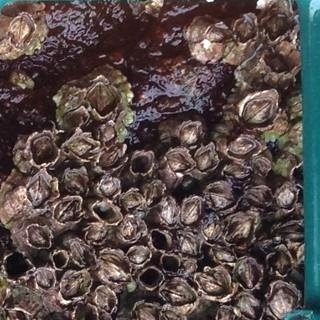Barnacle: (240, 94, 278, 128), (85, 77, 117, 117), (190, 16, 226, 47), (196, 271, 233, 301), (100, 249, 132, 283), (261, 9, 295, 39), (269, 285, 298, 318), (27, 174, 53, 210), (162, 279, 196, 306), (61, 269, 88, 301), (226, 214, 255, 243), (29, 135, 57, 165), (65, 131, 93, 159), (235, 259, 261, 289), (199, 212, 223, 243), (175, 233, 202, 259), (9, 16, 33, 45), (235, 295, 264, 319), (54, 199, 80, 225), (228, 136, 258, 158), (269, 248, 292, 276), (234, 16, 256, 45), (179, 199, 201, 228), (208, 186, 233, 211), (69, 241, 93, 267), (95, 146, 120, 170), (155, 202, 177, 228), (179, 122, 200, 148), (223, 165, 253, 183), (165, 153, 193, 172), (26, 226, 49, 249), (267, 53, 289, 76), (127, 247, 152, 267), (95, 289, 114, 315), (196, 150, 215, 175), (86, 222, 108, 243), (33, 268, 54, 290), (121, 214, 139, 239), (99, 176, 119, 198), (212, 246, 236, 264), (97, 122, 117, 143), (121, 192, 142, 212), (147, 182, 162, 208), (277, 186, 294, 208), (138, 303, 160, 319), (254, 159, 269, 175), (216, 306, 233, 319), (163, 310, 183, 319)
